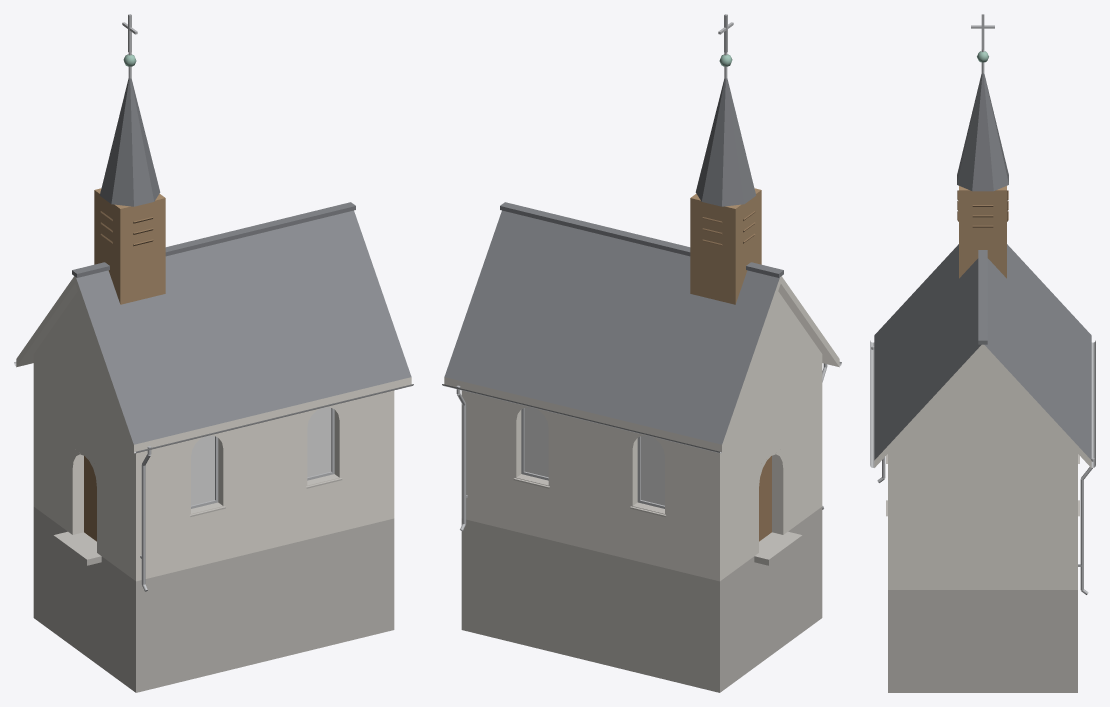
Rendered from chapel_s.glb.
The picture shows the model from 3 angles, left to right: view 1: azimuth 30°, elevation 25°; view 2: azimuth 150°, elevation 25°; view 3: azimuth 270°, elevation 25°; orthographic projection. The views are drawn at different scales.
Visible parts, largest first — view 1: chapel_s; view 2: chapel_s; view 3: chapel_s.
Boxes of the visible parts, x1=… form: chapel_s: x1=14, y1=14, x2=413, y2=692; chapel_s: x1=442, y1=14, x2=841, y2=692; chapel_s: x1=870, y1=14, x2=1095, y2=692.
Bounding box in the file's own units: 8.77 × 18.63 × 6.55.
